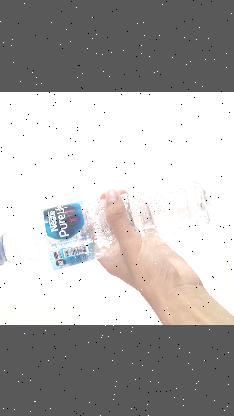Plastic Bottle: (0, 166, 216, 271)
